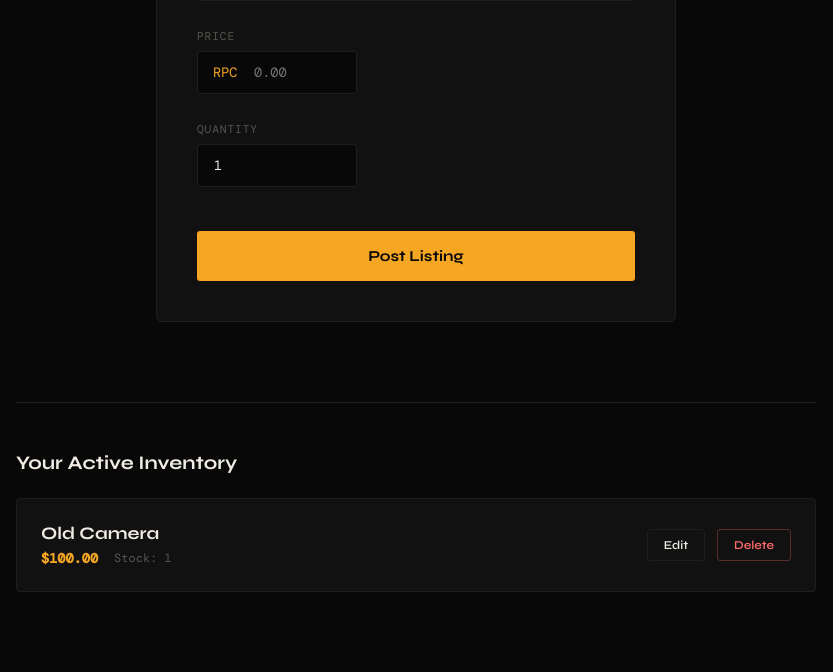
SellPage › aborts PUT request if no changes were made during edit
The image size is (833, 672).
(page scrolled)
Click the button "Edit" at (676, 545), box x1=647 y1=529 x2=705 y2=561
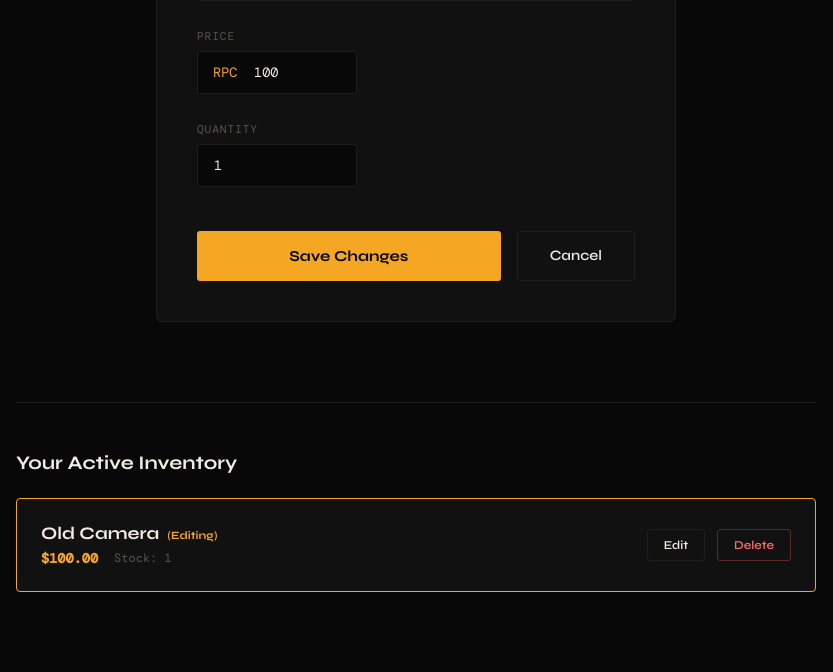
Click the button "Save Changes" at (349, 256), box x1=197 y1=231 x2=501 y2=281
(page scrolled)
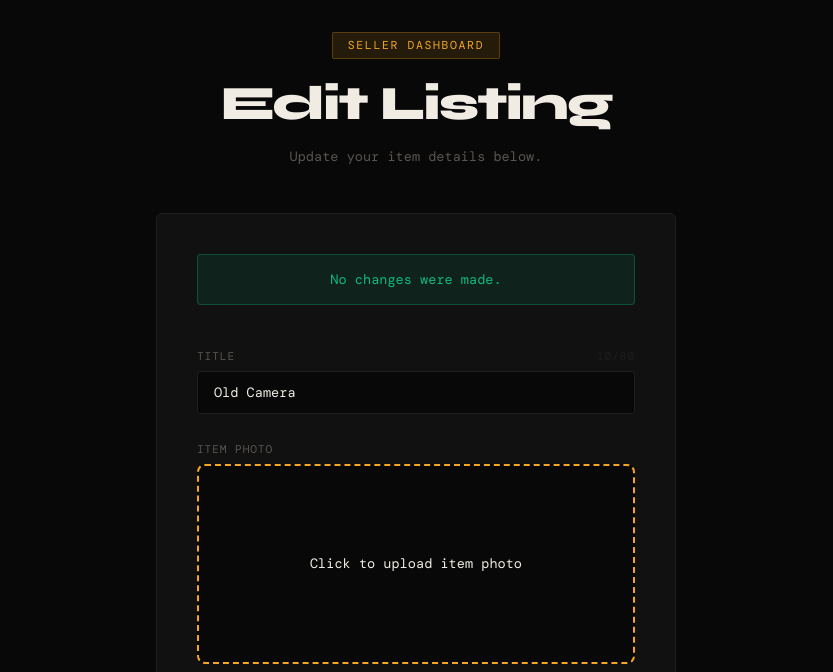
expect the text "No changes were made." is shown: met, box x1=197 y1=254 x2=635 y2=305
